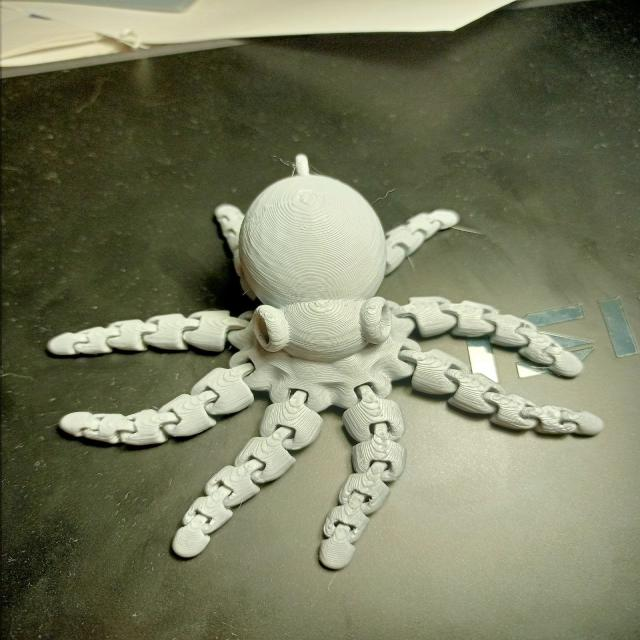Without deffect: (35, 143, 613, 587)
